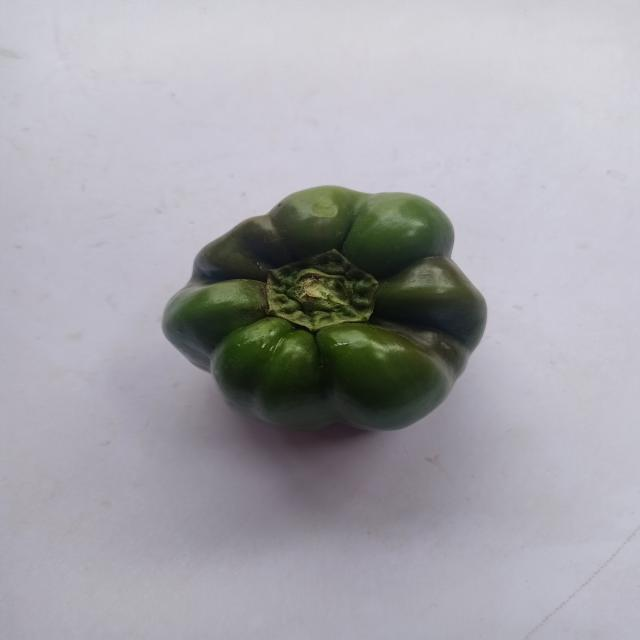Capsicum: (139, 172, 516, 482)
